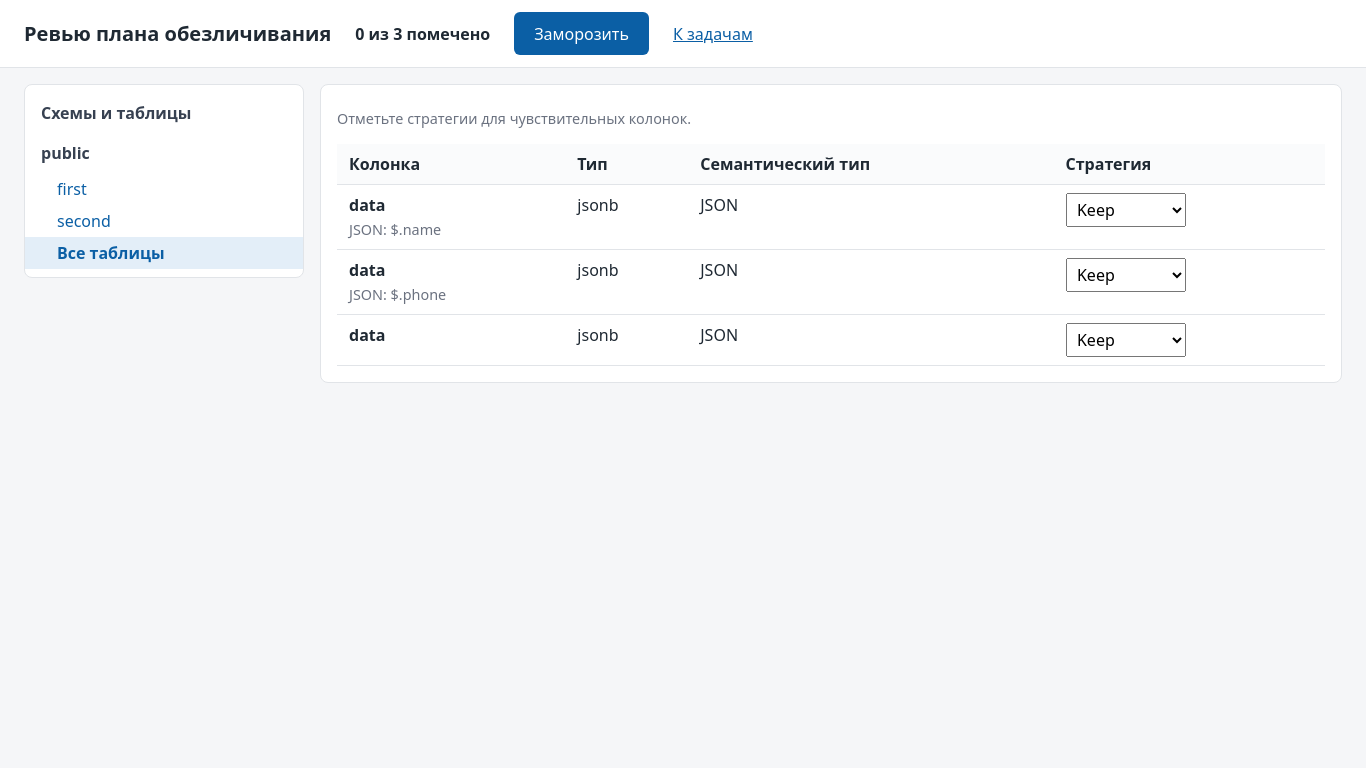
React screens › reloads a concurrently frozen plan after 409 and locks editing
The image size is (1366, 768).
Click the button "Заморозить" at x=582, y=34, box [514,12,649,55]
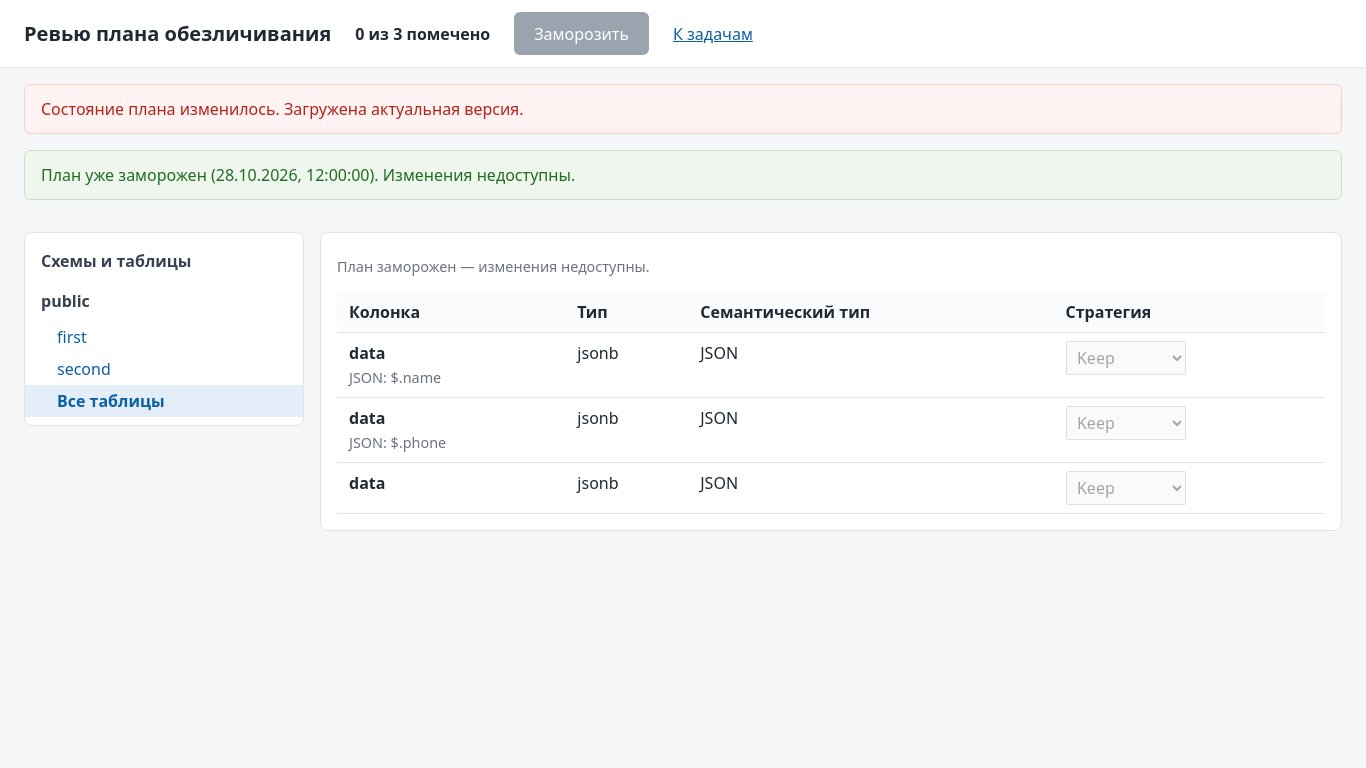
Now the text "План уже заморожен (28.10.2026, 12:00:00). Изменения недоступны." is shown, box [24,150,1342,200]
